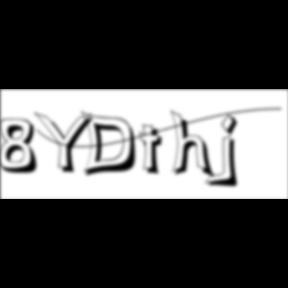8: (0, 117, 44, 176)
D: (80, 110, 144, 180)
Y: (34, 110, 101, 176)
h: (171, 108, 218, 182)
j: (218, 113, 246, 191)
t: (140, 124, 170, 179)
